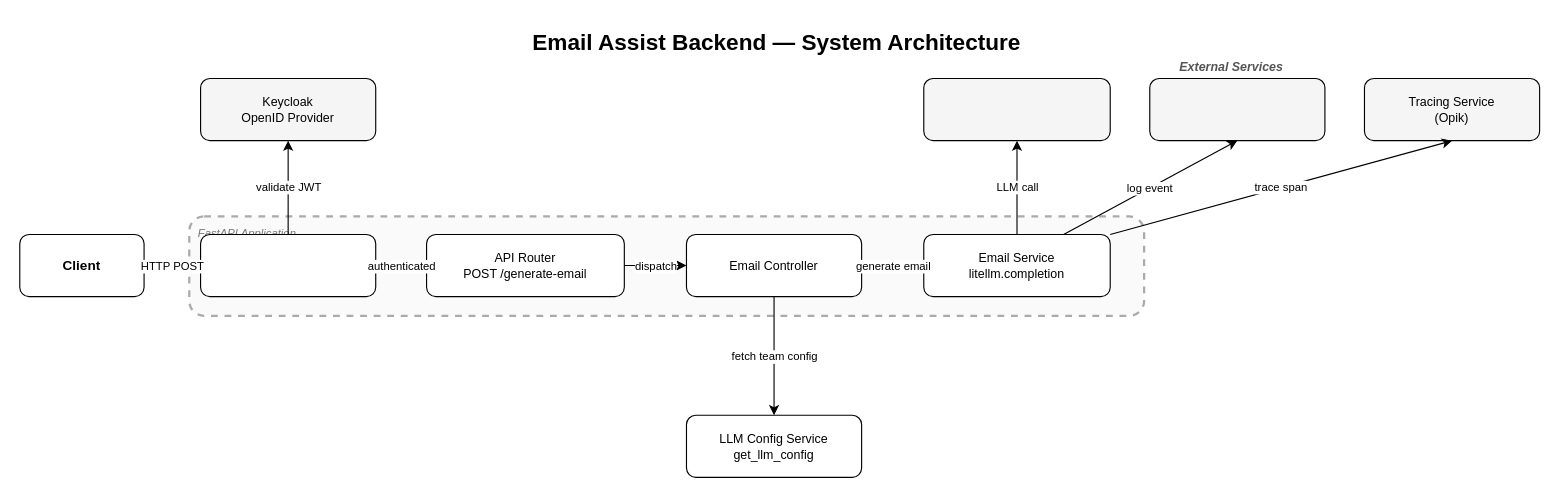
Image size: 1559x497. Some labels were removed from this diagram. Each missing label, with the centre of its shape:
Kafka Event Logger: the point at 1237,109
KeycloakAuth Middleware: the point at 287,265
LLM Provider (Gemini / OpenAI): the point at 1016,109
